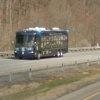Bus: (12, 23, 70, 63)
